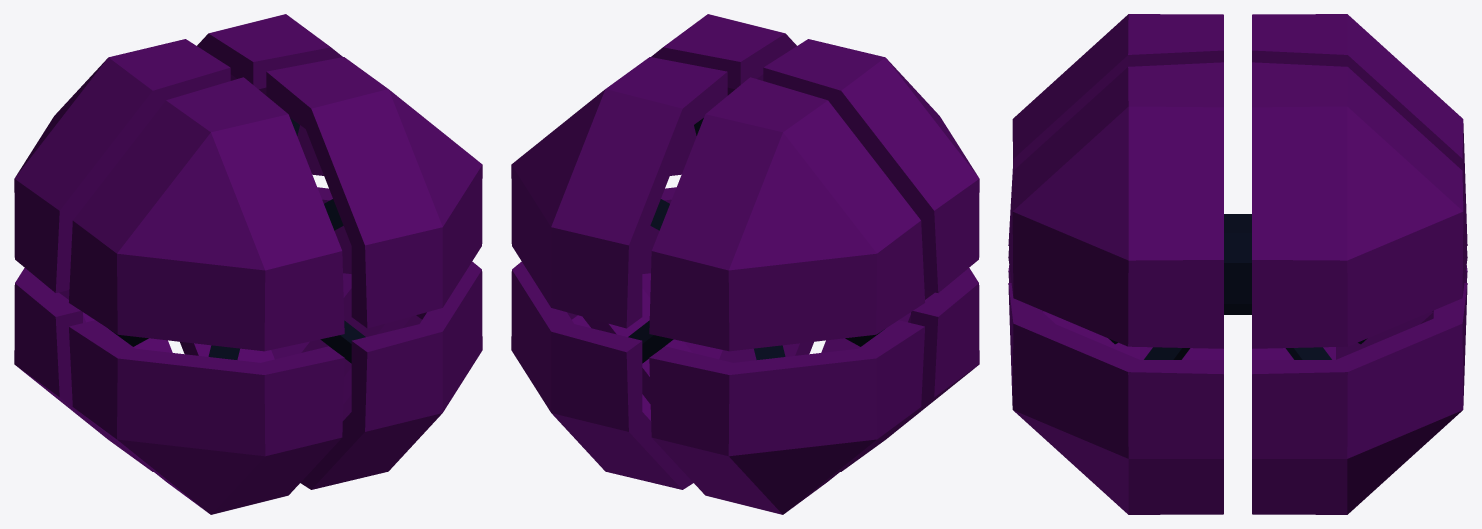
Rendered from Roller.fbx.
The picture shows the model from 3 angles, left to right: view 1: azimuth 30°, elevation 25°; view 2: azimuth 150°, elevation 25°; view 3: azimuth 270°, elevation 25°; orthographic projection. The views are drawn at different scales.
Visible parts, largest first — view 1: Roller; view 2: Roller; view 3: Roller.
Part boxes in pixels (box(x1,y1,x2,y2)): Roller: box(14, 14, 482, 514); Roller: box(511, 14, 979, 514); Roller: box(1008, 14, 1467, 514).
Bounding box in the file's own units: 5.08 × 5.08 × 5.08.
